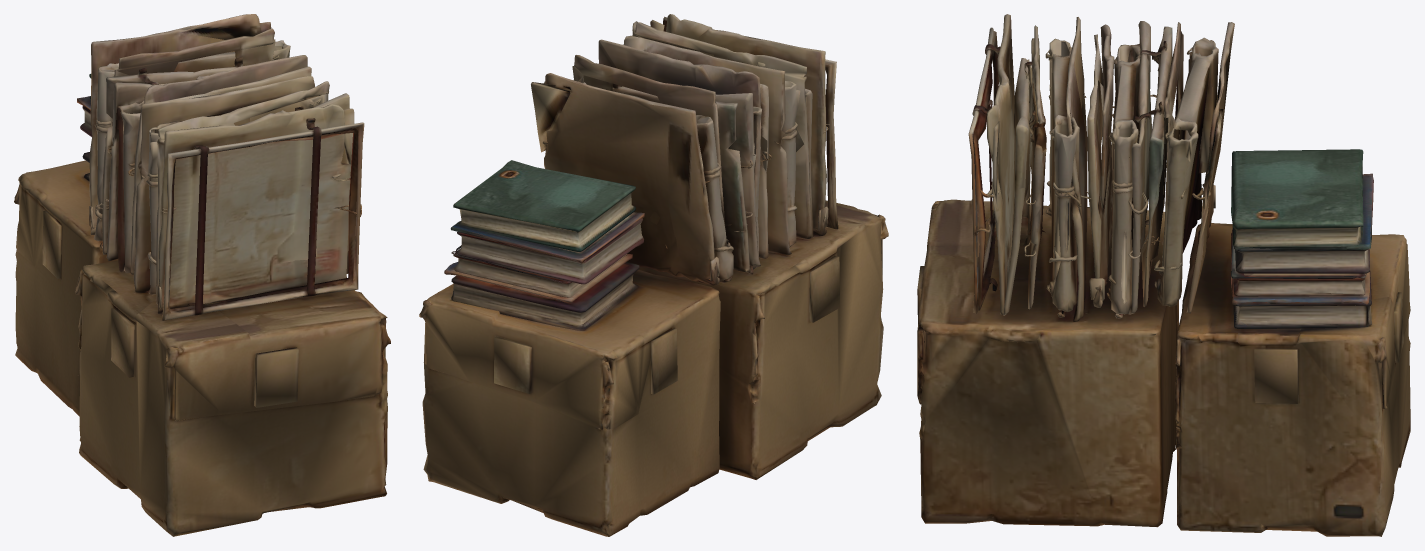
Rendered from prop-archive-stack-v01.glb.
3 views of the same model, side by side, from view 1: azimuth 30°, elevation 25°; view 2: azimuth 150°, elevation 25°; view 3: azimuth 270°, elevation 25° (orthographic). The views are drawn at different scales.
Visible parts, largest first — view 1: tripo_node_1f1df2ae-323c-4c34-91a3-87428ceb6c71; view 2: tripo_node_1f1df2ae-323c-4c34-91a3-87428ceb6c71; view 3: tripo_node_1f1df2ae-323c-4c34-91a3-87428ceb6c71.
Part boxes in pixels (x1,y1,x2,y2): tripo_node_1f1df2ae-323c-4c34-91a3-87428ceb6c71: (14,14,390,536); tripo_node_1f1df2ae-323c-4c34-91a3-87428ceb6c71: (419,14,888,536); tripo_node_1f1df2ae-323c-4c34-91a3-87428ceb6c71: (917,14,1410,536).
Bounding box in the file's own units: 0.5063 × 0.685 × 0.7247.
1 material, 1 textured.
